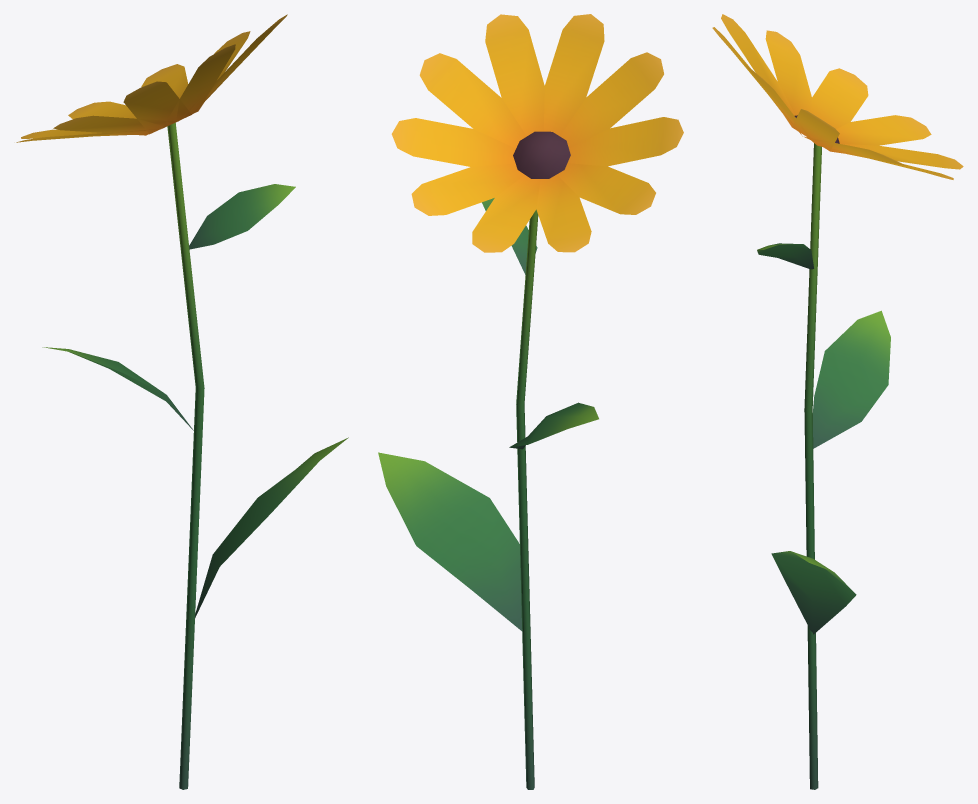
The model's file is flower11.glb.
The picture shows the model from 3 angles, left to right: view 1: azimuth 30°, elevation 25°; view 2: azimuth 150°, elevation 25°; view 3: azimuth 270°, elevation 25°; orthographic projection. The views are drawn at different scales.
Visible parts, largest first — view 1: Flower.011; view 2: Flower.011; view 3: Flower.011.
Part boxes in pixels (box(x1,y1,x2,y2)): Flower.011: box(16, 14, 348, 789); Flower.011: box(378, 14, 683, 789); Flower.011: box(712, 14, 963, 789).
Bounding box in the file's own units: 0.8989 × 2.15 × 0.6505.
Materials: 1 (1 with a texture image).
